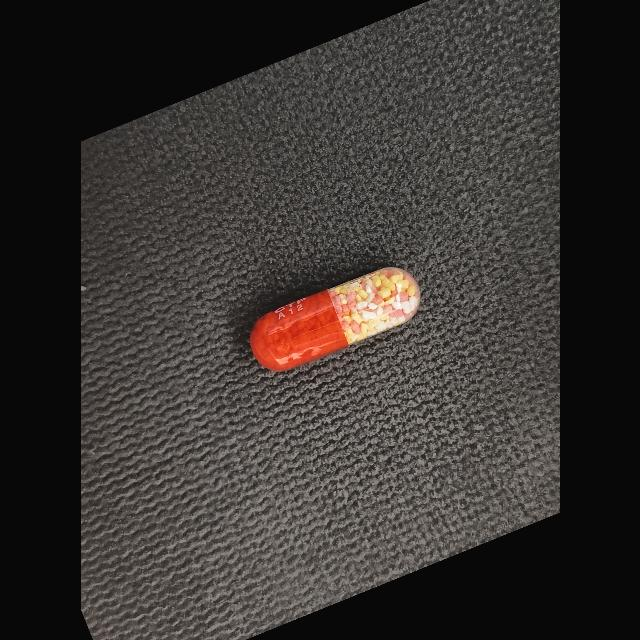Intact Capsule: (250, 268, 420, 371)
